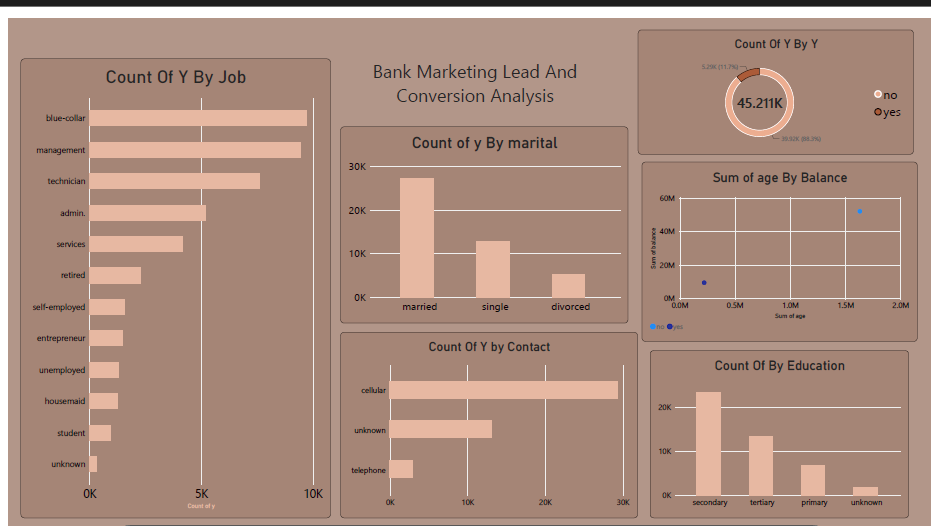

The dashboard page shown, as its layout file describes it:
{"tool":"powerbi","page":{"name":"Page 1","canvas":[1920,1080],"ordinal":0},"visuals":[{"type":"donutChart","title":"Count Of Y By Y","fields":{"Category":["bank_marketing_cleaned.y"],"Y":["CountNonNull(bank_marketing_cleaned.y)"]},"box":[1305.2,22.7,572,259.5],"z":0},{"type":"clusteredBarChart","title":"Count Of Y By Job","fields":{"Category":["bank_marketing_cleaned.job"],"Y":["CountNonNull(bank_marketing_cleaned.y)"]},"box":[25.2,83.1,642.5,952.4],"z":1},{"type":"clusteredBarChart","title":"Count Of Y by Contact","fields":{"Y":["CountNonNull(bank_marketing_cleaned.y)"],"Category":["bank_marketing_cleaned.contact"]},"box":[687.9,650.1,617.3,385.5],"z":2},{"type":"clusteredColumnChart","title":"Count Of By Education","fields":{"Category":["bank_marketing_cleaned.education"],"Y":["CountNonNull(bank_marketing_cleaned.y)"]},"box":[1330.4,687.9,536.7,347.7],"z":3},{"type":"columnChart","title":"Count of y By marital","fields":{"Category":["bank_marketing_cleaned.marital"],"Y":["CountNonNull(bank_marketing_cleaned.y)"]},"box":[687.9,224.3,597.2,408.2],"z":4},{"type":"scatterChart","title":"Sum of age By Balance","fields":{"X":["Sum(bank_marketing_cleaned.age)"],"Y":["Sum(bank_marketing_cleaned.balance)"],"Series":["bank_marketing_cleaned.y"]},"box":[1312.8,297.3,572,372.9],"z":5},{"type":"textbox","box":[687.9,83.1,559.4,120.9],"z":6}]}

Visuals, with their boxes in screenshot pixels (x1, y1, x2, y2), scaled from the page's 1920x1080 canvas onto the 931x526 screenshot:
"Count Of Y By Y" donutChart: [left=633, top=11, right=910, bottom=137]
"Count Of Y By Job" clusteredBarChart: [left=12, top=40, right=324, bottom=504]
"Count Of Y by Contact" clusteredBarChart: [left=334, top=317, right=633, bottom=504]
"Count Of By Education" clusteredColumnChart: [left=645, top=335, right=905, bottom=504]
"Count of y By marital" columnChart: [left=334, top=109, right=623, bottom=308]
"Sum of age By Balance" scatterChart: [left=637, top=145, right=914, bottom=326]
textbox: [left=334, top=40, right=605, bottom=99]
